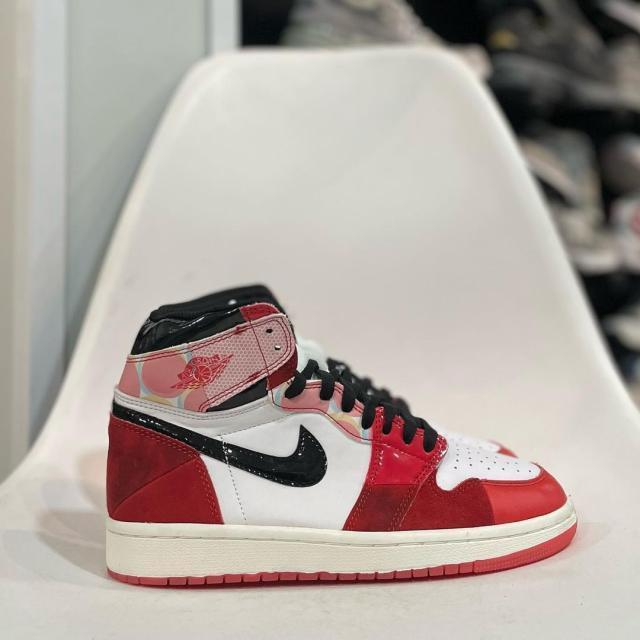nike fake jordan 1: (97, 282, 587, 586)
